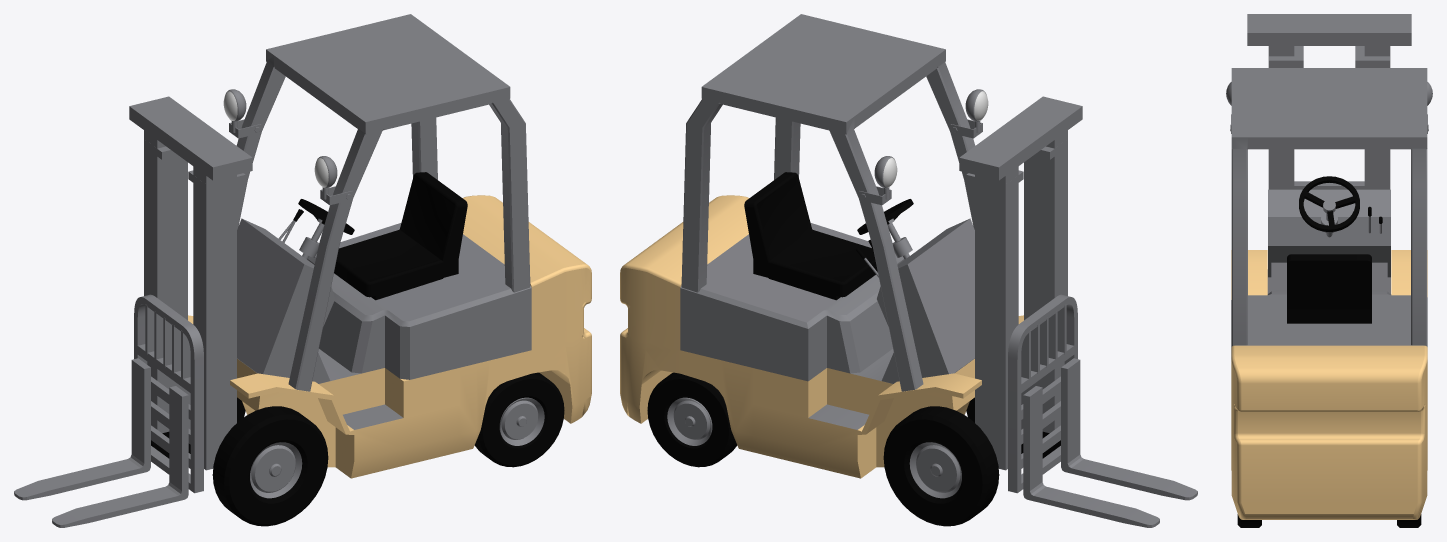
File: forklift.fbx
3 renders of one model, left to right at view 1: azimuth 30°, elevation 25°; view 2: azimuth 150°, elevation 25°; view 3: azimuth 270°, elevation 25°, orthographic.
Visible parts, largest first — view 1: rubber, rubber.001; view 2: rubber, rubber.001; view 3: rubber.
Boxes of the visible parts, bbox=[...] form: rubber: bbox=[14, 14, 591, 527]; rubber.001: bbox=[223, 91, 328, 187]; rubber: bbox=[620, 14, 1197, 527]; rubber.001: bbox=[883, 91, 988, 187]; rubber: bbox=[1226, 14, 1432, 527].
Size of the model in its own units: 7.05 by 5.09 by 2.52.
